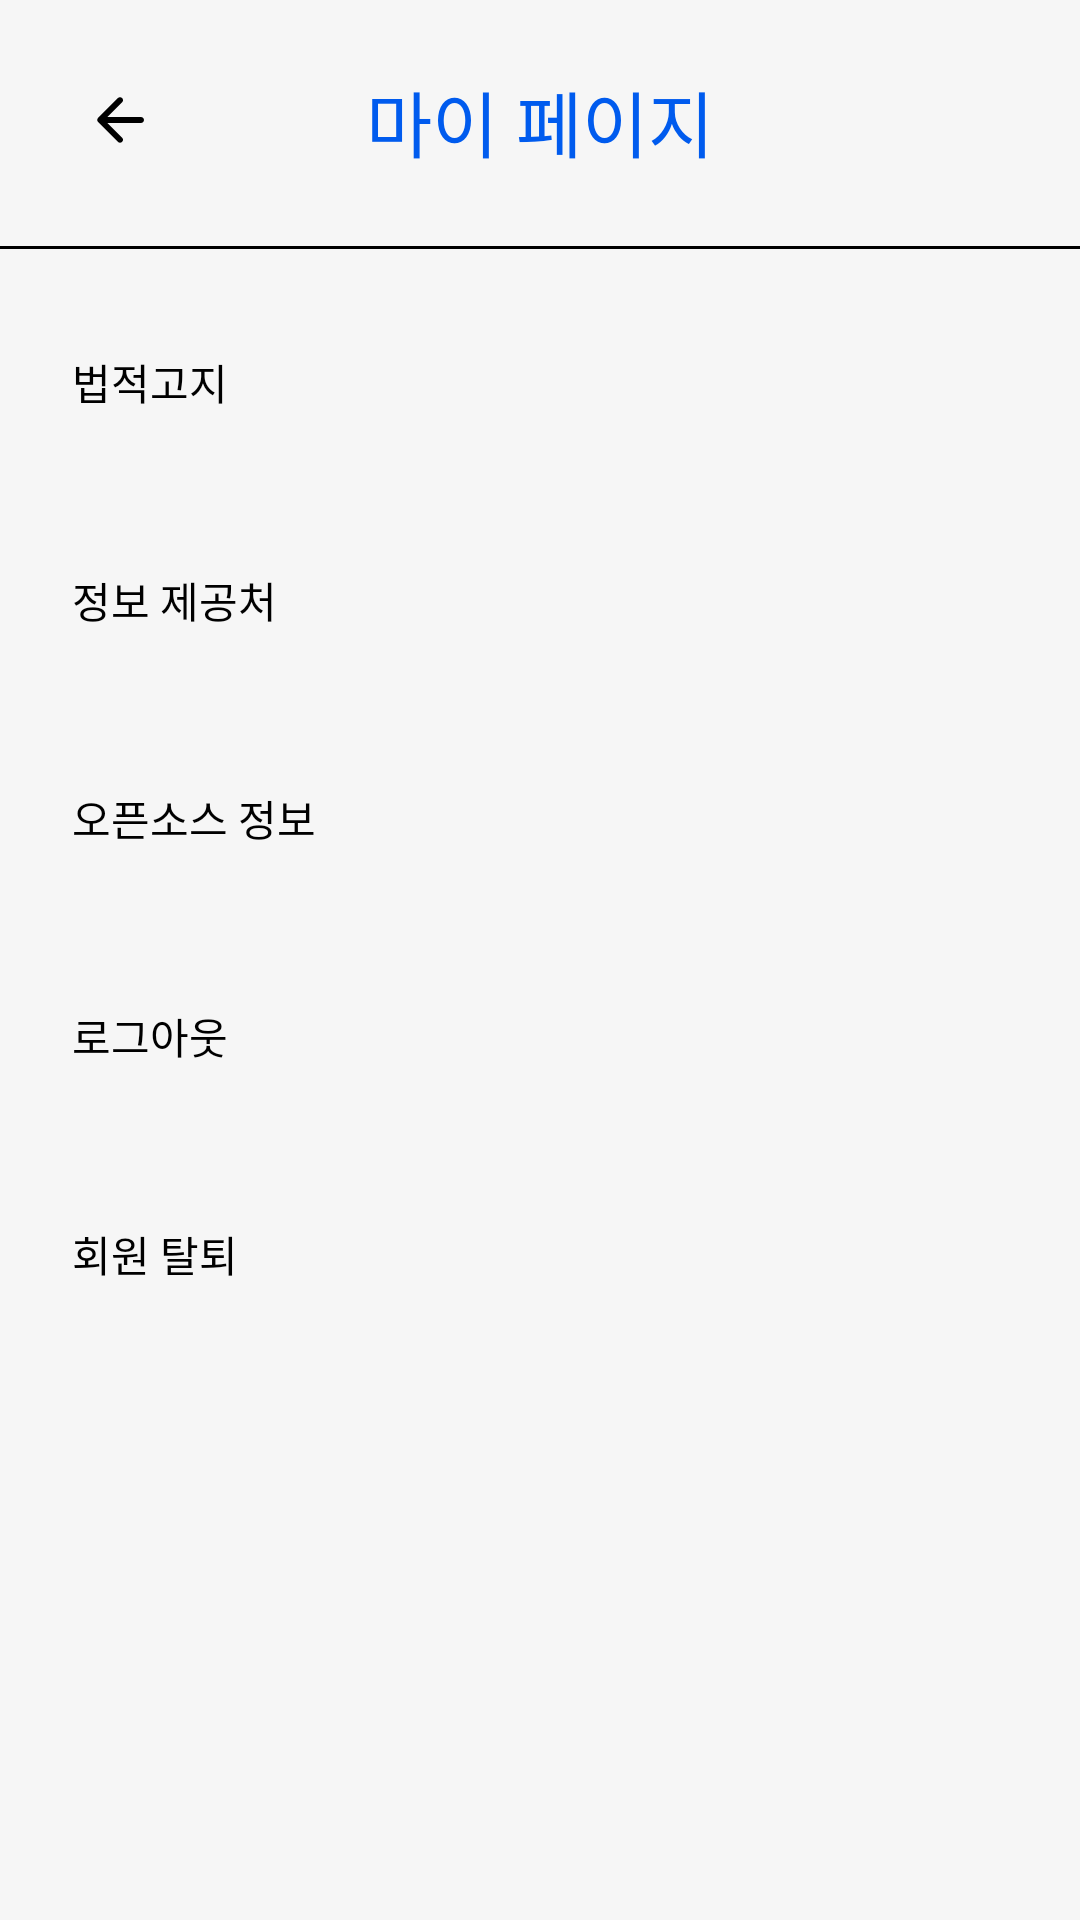

Where to tap for icons on this 1080*1920 app screen, as (x,y):
뒤로가기 버튼입니다: (120,120)
